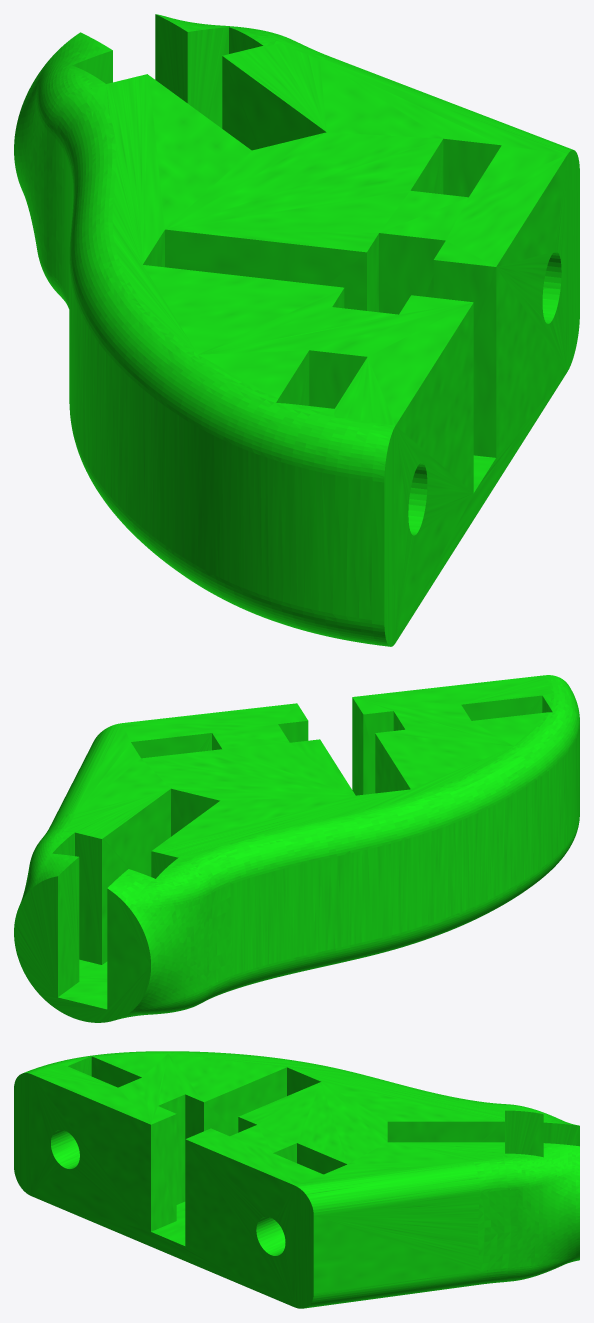
File: xtion45_clip_right.dae
3 renders of one model, top to bottom at view 1: azimuth 30°, elevation 25°; view 2: azimuth 150°, elevation 25°; view 3: azimuth 270°, elevation 25°, orthographic. The views are drawn at different scales.
Visible parts, largest first — view 1: node; view 2: node; view 3: node.
Part boxes in pixels (x1=…): node: x1=14, y1=14, x2=579, y2=646; node: x1=14, y1=675, x2=579, y2=1022; node: x1=14, y1=1051, x2=579, y2=1308.
Bounding box in the file's own units: 29.37 × 11.11 × 46.73.
1 material, 1 textured.
